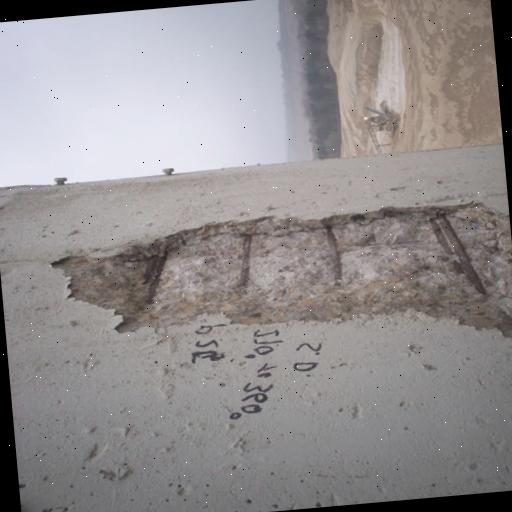spalling: (48, 186, 512, 374)
